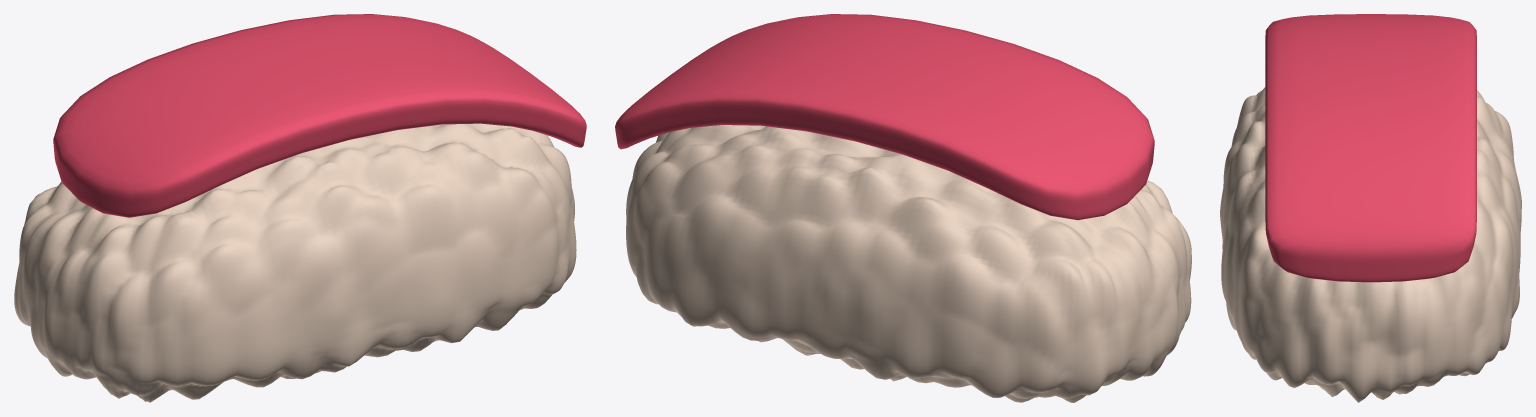
The model's file is sashimi.fbx.
3 views of the same model, side by side, from view 1: azimuth 30°, elevation 25°; view 2: azimuth 150°, elevation 25°; view 3: azimuth 270°, elevation 25° (orthographic). The views are drawn at different scales.
Visible parts, largest first — view 1: Plane, Plane.001; view 2: Plane, Plane.001; view 3: Plane.001, Plane.
Part boxes in pixels (x1,y1,x2,y2): Plane: [14, 123, 576, 402]; Plane.001: [53, 14, 586, 217]; Plane: [626, 125, 1191, 402]; Plane.001: [615, 14, 1154, 220]; Plane.001: [1265, 14, 1476, 282]; Plane: [1220, 87, 1521, 402].
Size of the model in its own units: 113 by 56.65 by 62.88.
